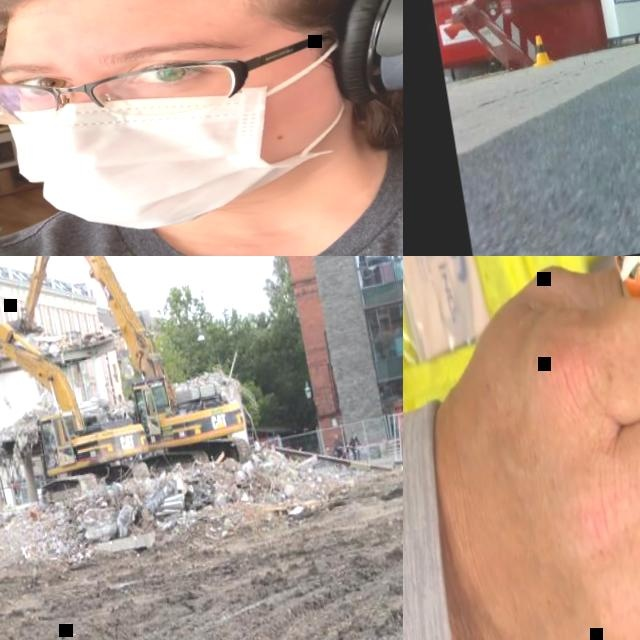Mask: (0, 55, 370, 255)
NO-Safety Vest: (0, 119, 403, 256), (335, 441, 345, 454), (351, 438, 359, 450)
Person: (0, 0, 403, 256), (403, 256, 640, 640), (348, 433, 366, 463), (332, 435, 346, 460)
Safety Cone: (529, 35, 554, 68)
Safety Vest: (403, 256, 640, 420)
machinery: (0, 256, 253, 497), (0, 294, 154, 515)
